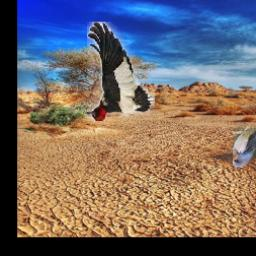Swallow: (232, 120, 256, 167)
Woodpecker: (86, 23, 154, 122)
